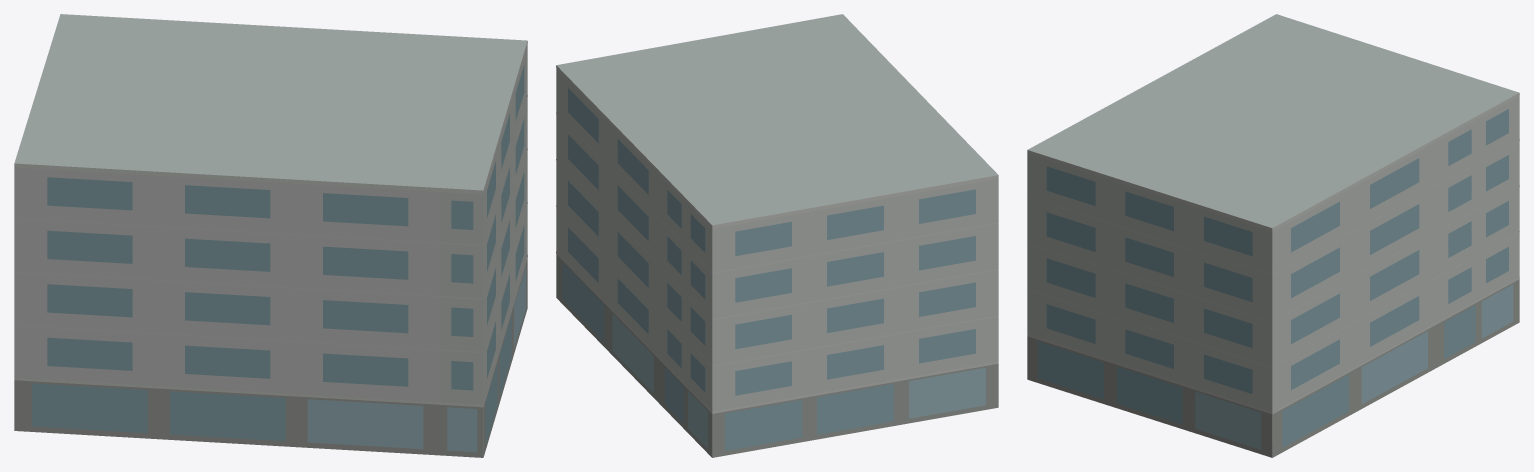
The model's file is survey-upis-32708612.glb.
The picture shows the model from 3 angles, left to right: view 1: azimuth 30°, elevation 25°; view 2: azimuth 150°, elevation 25°; view 3: azimuth 270°, elevation 25°; orthographic projection. The views are drawn at different scales.
Visible parts, largest first — view 1: survey-upis-32708612.tmp; view 2: survey-upis-32708612.tmp; view 3: survey-upis-32708612.tmp.
Part boxes in pixels (box(x1,y1,x2,y2)): survey-upis-32708612.tmp: box(14, 14, 527, 457); survey-upis-32708612.tmp: box(556, 14, 998, 457); survey-upis-32708612.tmp: box(1027, 14, 1519, 457).
Size of the model in its own units: 30.52 by 15.25 by 29.65.
